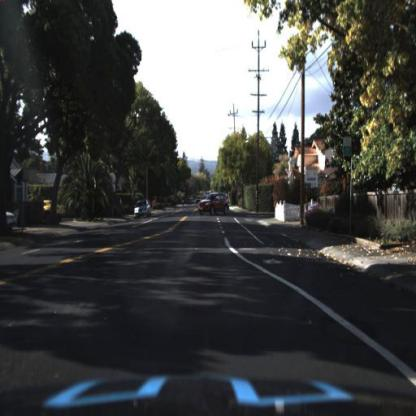car: (36, 194, 69, 223), (198, 190, 232, 217), (131, 196, 153, 220)
